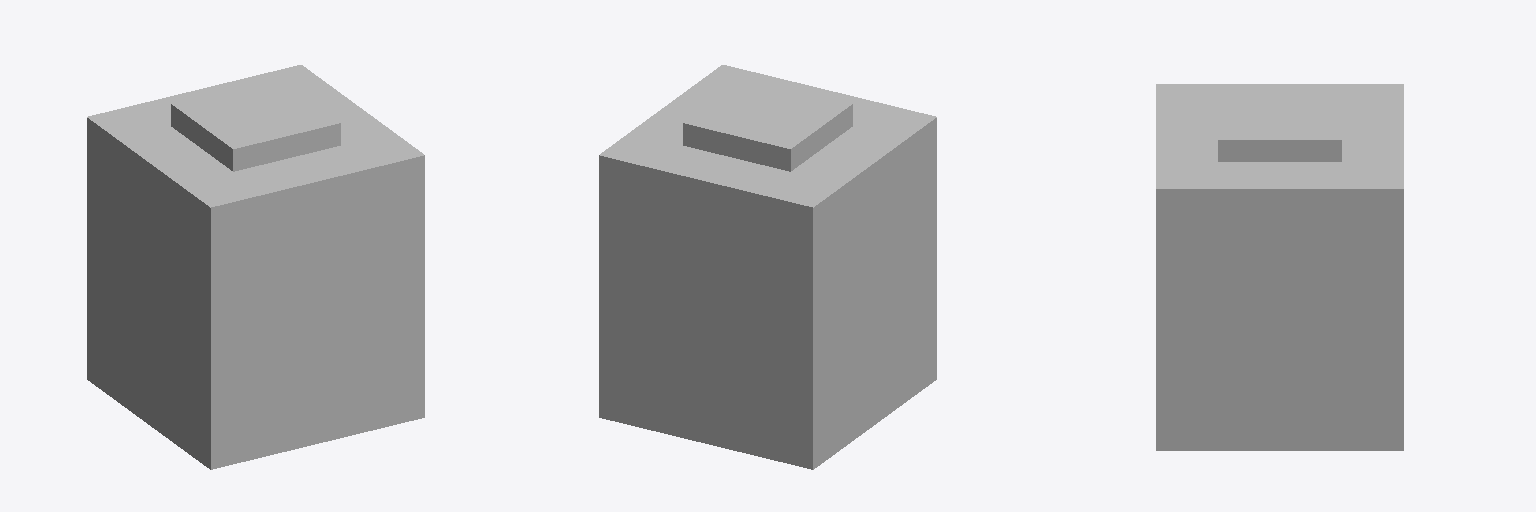
The model's file is TileLifeEssenceJar.obj.
The picture shows the model from 3 angles: view 1: azimuth 30°, elevation 25°; view 2: azimuth 150°, elevation 25°; view 3: azimuth 270°, elevation 25°; orthographic projection.
Visible parts, largest first — view 1: _1, _2; view 2: _1, _2; view 3: _1, _2.
Boxes of the visible parts, x1,y1,x2,y2 form: _1: [87, 65, 424, 469]; _2: [171, 78, 340, 171]; _1: [599, 65, 936, 469]; _2: [683, 78, 852, 171]; _1: [1156, 84, 1403, 450]; _2: [1218, 87, 1341, 161].
Bounding box in the file's own units: 0.6 × 0.76 × 0.6.